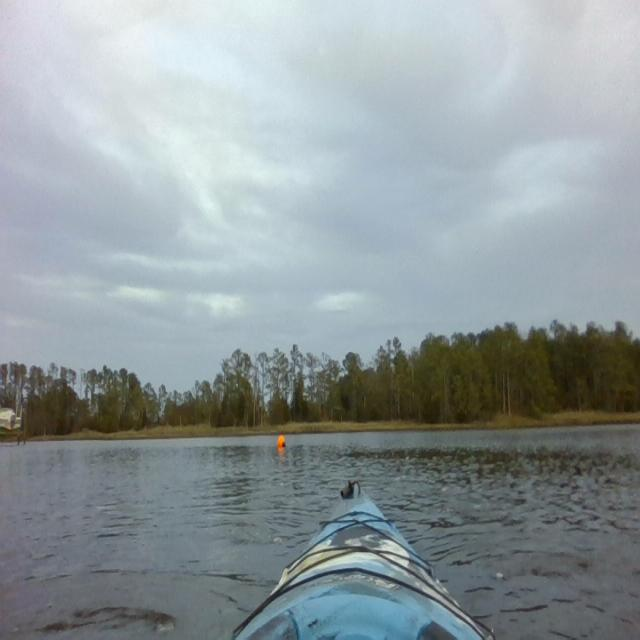Buoy: (276, 432, 286, 450)
